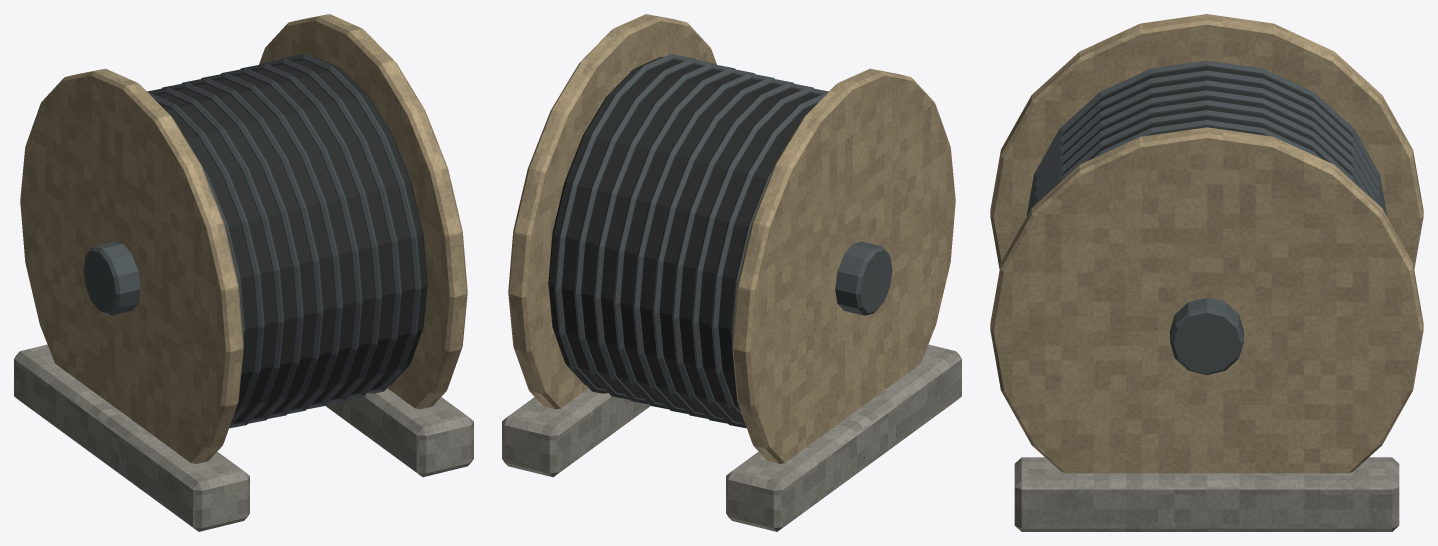
3 views of the same model, side by side, from view 1: azimuth 30°, elevation 25°; view 2: azimuth 150°, elevation 25°; view 3: azimuth 270°, elevation 25° (orthographic). The views are drawn at different scales.
Visible parts, largest first — view 1: ST2-P05_Mesh; view 2: ST2-P05_Mesh; view 3: ST2-P05_Mesh.
Boxes of the visible parts, <box> form: ST2-P05_Mesh: <box>14,14,473,531</box>; ST2-P05_Mesh: <box>502,14,961,531</box>; ST2-P05_Mesh: <box>990,14,1423,531</box>.
Size of the model in its own units: 1.21 by 1.52 by 1.52.
Materials: 4 (2 with a texture image).
